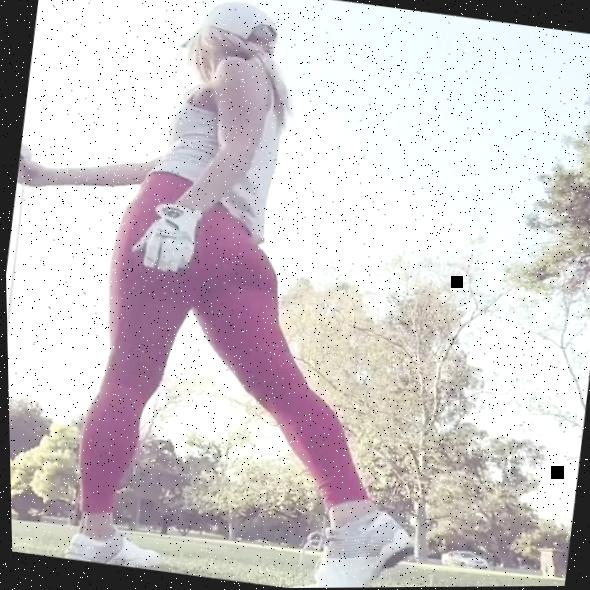ClubHead: (19, 142, 31, 159)
